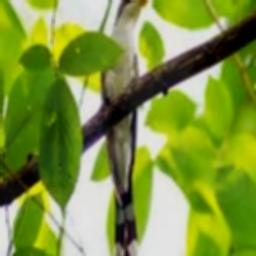Cuckoo: (101, 0, 156, 256)
